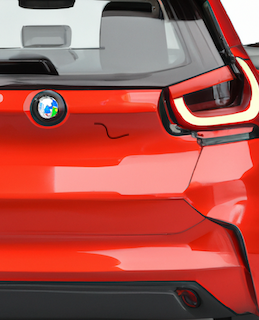scratch: (89, 117, 133, 144)
